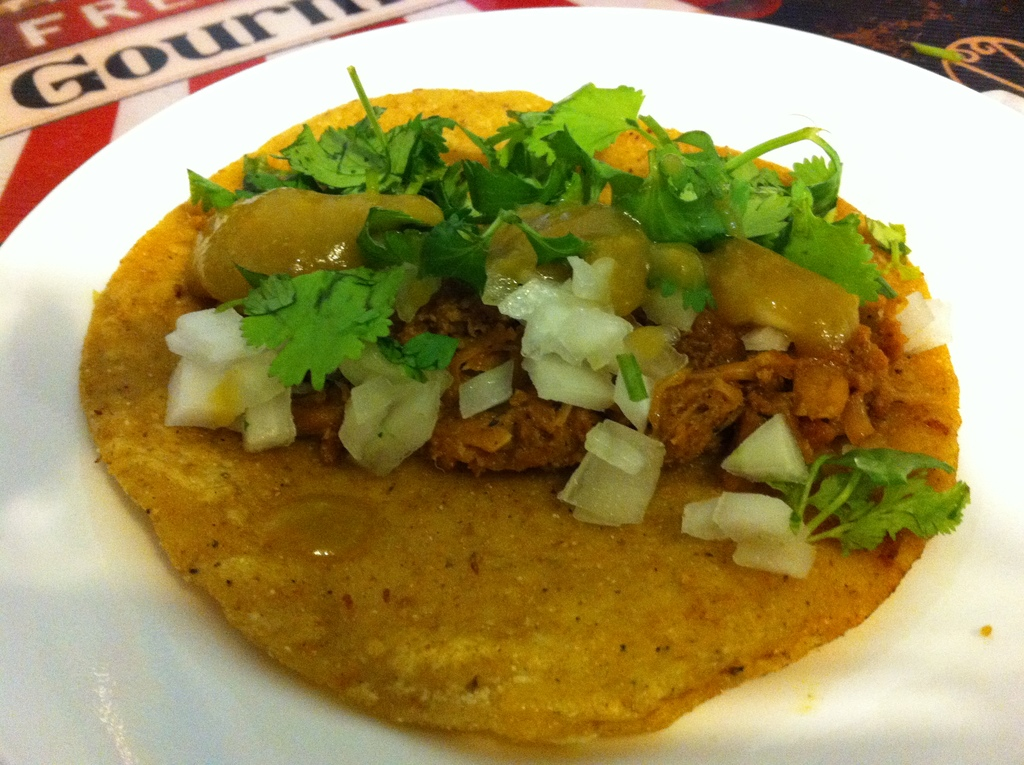taco: (78, 62, 972, 748)
